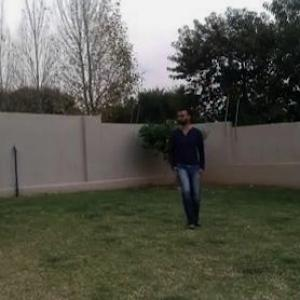follow: (175, 104, 206, 226)
